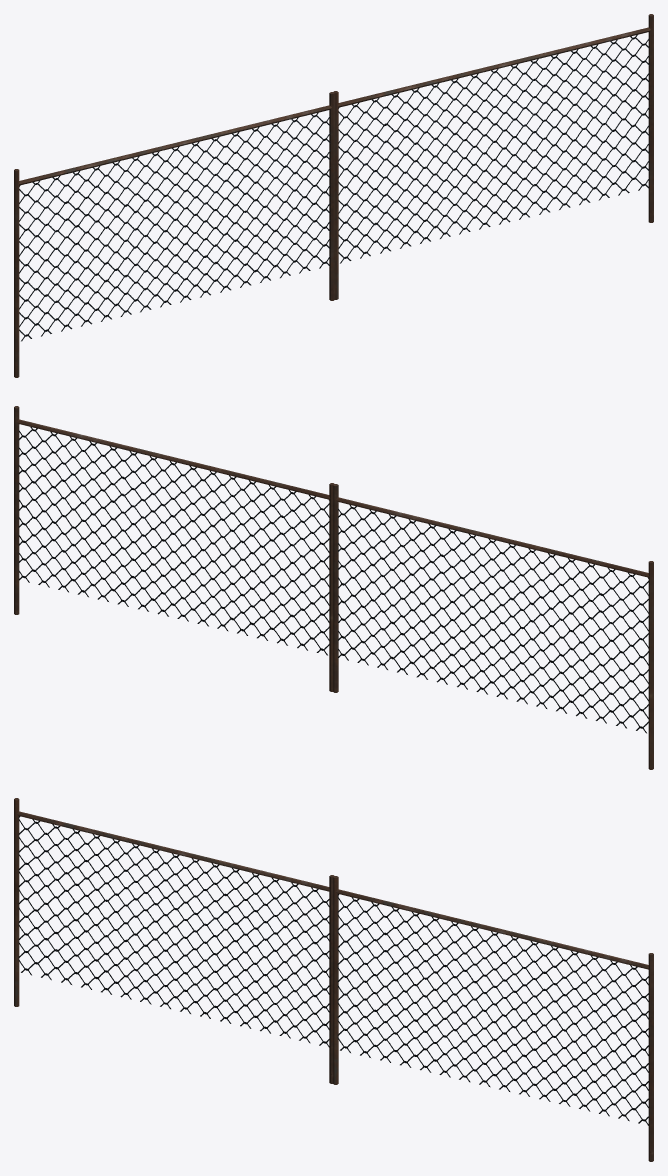
Rendered from fence.obj.
The picture shows the model from 3 angles, top to bottom: view 1: azimuth 30°, elevation 25°; view 2: azimuth 150°, elevation 25°; view 3: azimuth 330°, elevation 25°; orthographic projection.
Visible parts, largest first — view 1: TexturesCom_MetalVarious0026_1_seamless_S.001; view 2: TexturesCom_MetalVarious0026_1_seamless_S.001; view 3: TexturesCom_MetalVarious0026_1_seamless_S.001.
Part boxes in pixels (bbox=[...]): TexturesCom_MetalVarious0026_1_seamless_S.001: bbox=[14, 14, 653, 377]; TexturesCom_MetalVarious0026_1_seamless_S.001: bbox=[14, 406, 653, 769]; TexturesCom_MetalVarious0026_1_seamless_S.001: bbox=[14, 798, 653, 1161].
Size of the model in its own units: 2 by 0.6195 by 0.0149.
